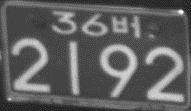1: (58, 40, 91, 95)
2: (11, 36, 52, 93), (144, 45, 185, 102)
3: (50, 9, 76, 35)
6: (81, 11, 108, 36)
9: (98, 42, 138, 98)
버: (111, 14, 141, 38)
